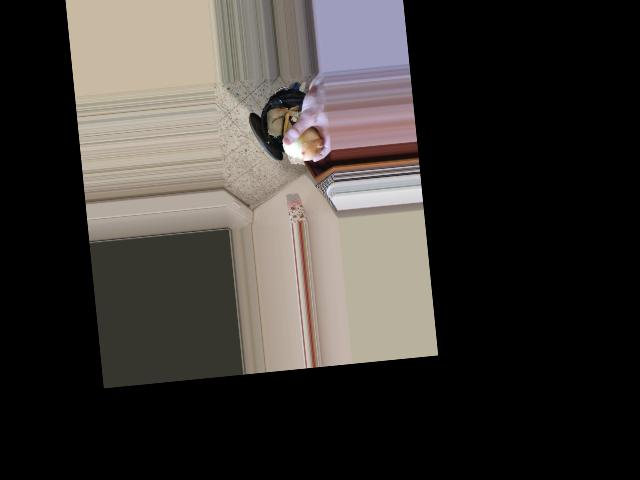onion: (283, 122, 321, 163)
